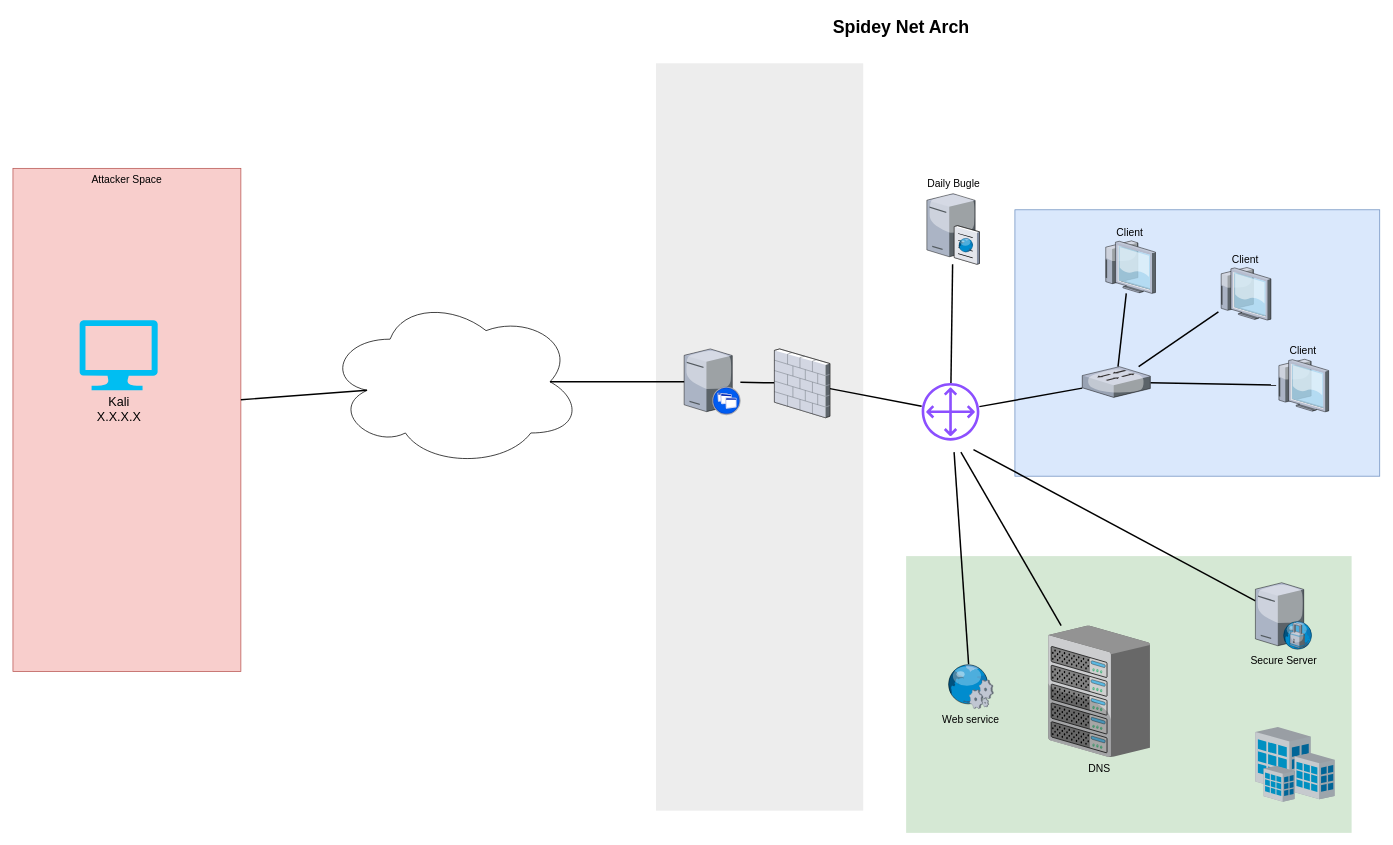
Some shapes in this 1393 by 845 pixel diagram are drawn without their labels. Each missing label, with the box of its shape:
Enterprise cloud: (906, 556, 1351, 832)
Firewall / Edge Router: (656, 63, 863, 810)
Internal Resources: (1014, 209, 1380, 476)
Internet: (325, 296, 582, 467)
